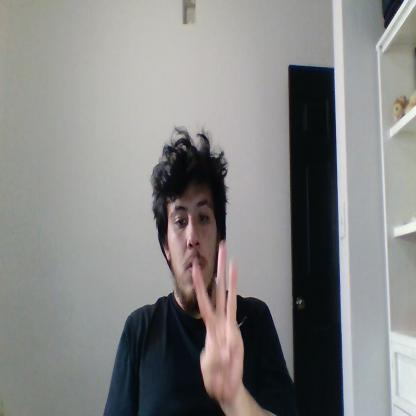W: (192, 241, 244, 401)
